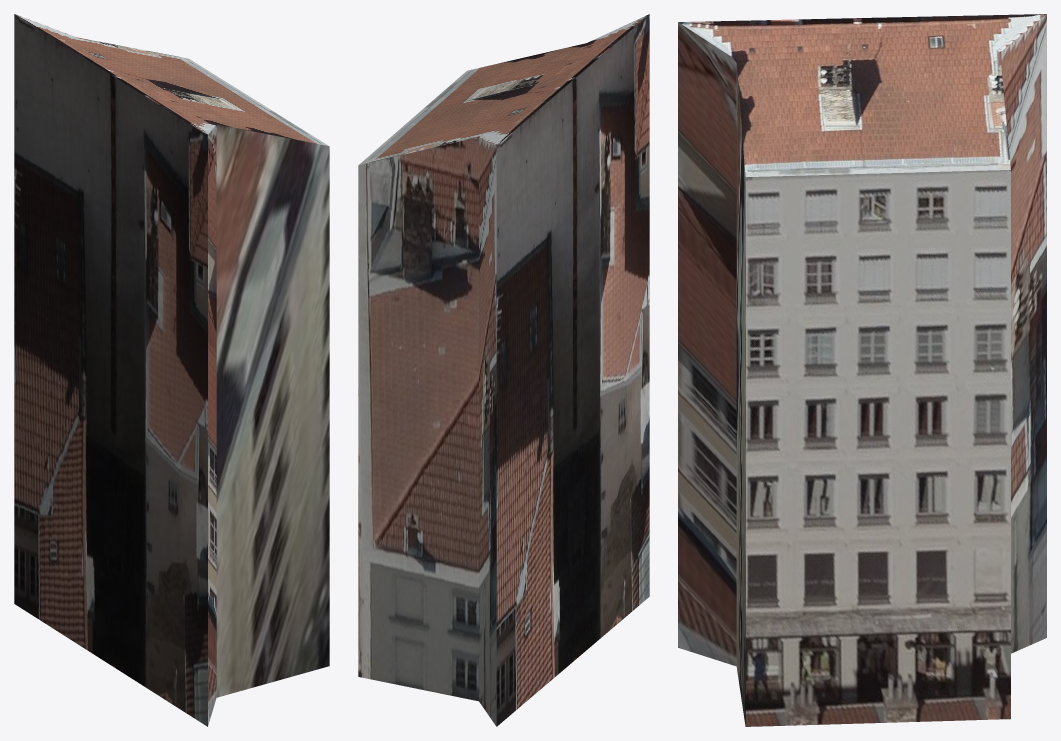
3 renders of one model, left to right at view 1: azimuth 30°, elevation 25°; view 2: azimuth 150°, elevation 25°; view 3: azimuth 270°, elevation 25°, orthographic. The views are drawn at different scales.
Visible parts, largest first — view 1: Z_UP; view 2: Z_UP; view 3: Z_UP.
Part boxes in pixels (x1,y1,x2,y2): Z_UP: [14, 14, 329, 726]; Z_UP: [358, 14, 649, 726]; Z_UP: [678, 14, 1046, 726].
Size of the model in its own units: 8.47 by 27.72 by 14.81.
2 materials, 1 textured.
